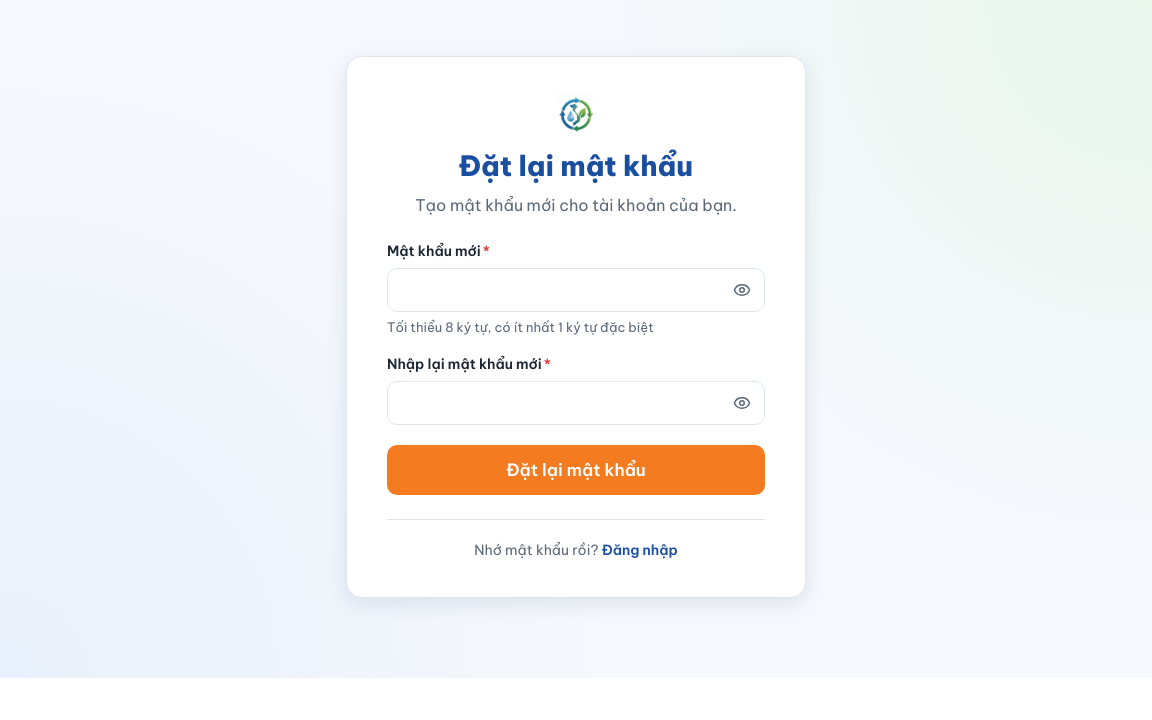
Test: ResetPasswordPage › explains an expired link
This screenshot has width=1152, height=720.
In the password field labelled "Mật khẩu mới*": x=576, y=290 [387,268,765,312], type "Matkhau@123"
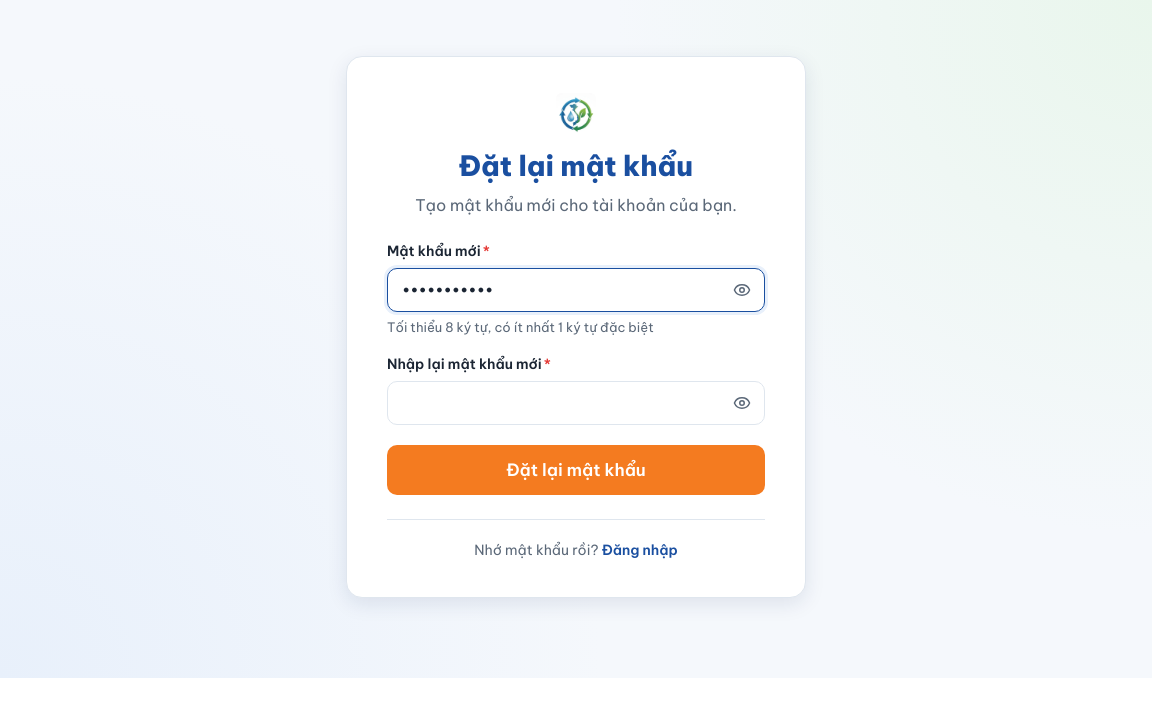
In the password field labelled "Nhập lại mật khẩu mới*": x=576, y=402 [387,380,765,424], type "Matkhau@123"
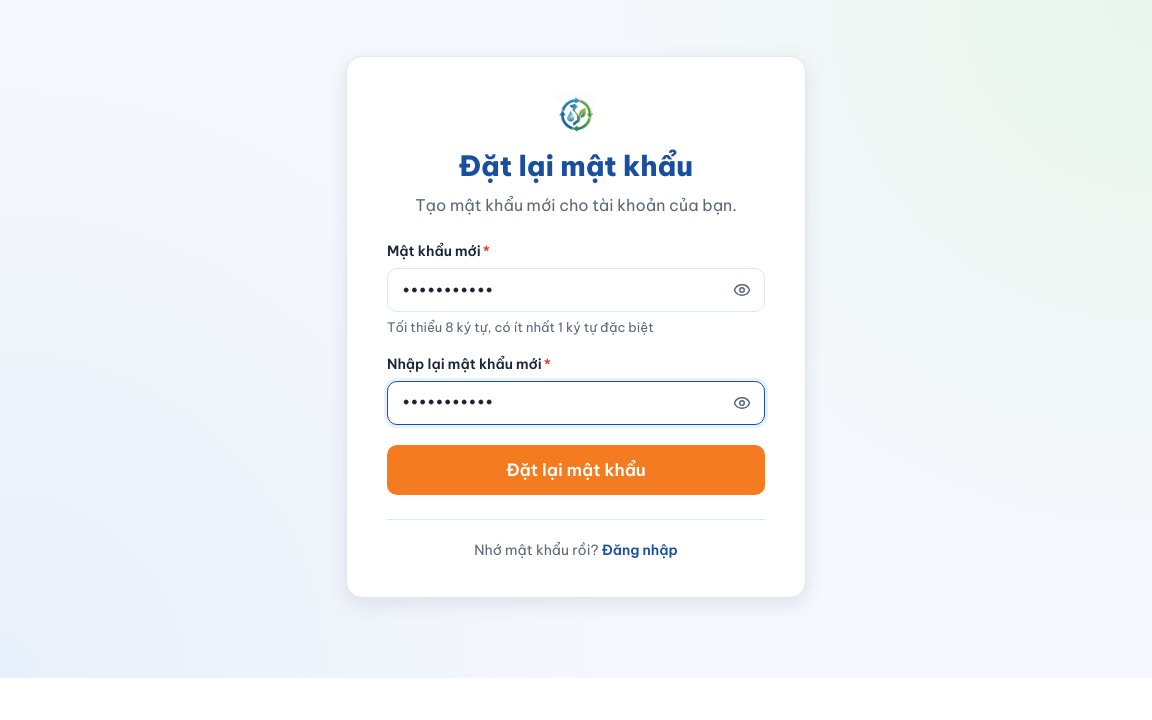
Click the button "Đặt lại mật khẩu": x=576, y=470 [387,444,765,495]
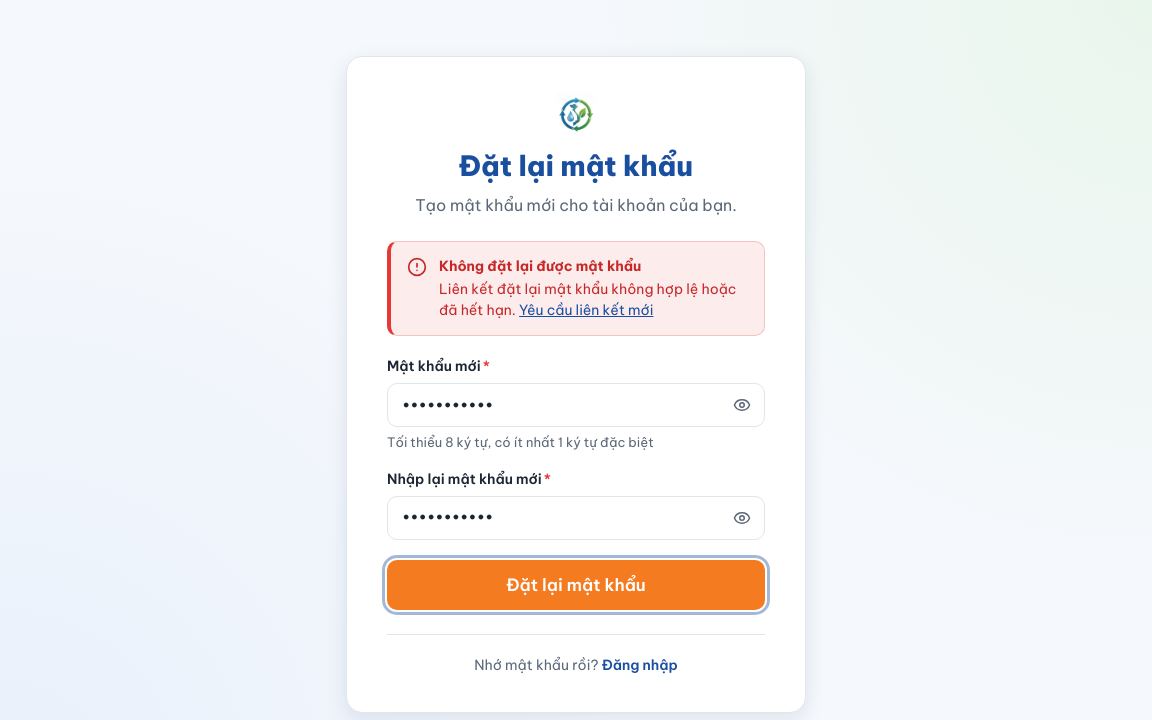
Check: the text "đã hết hạn" is shown, box [439,280,736,319]
Check: the link "Yêu cầu liên kết mới" is shown, box [519,301,653,319]
